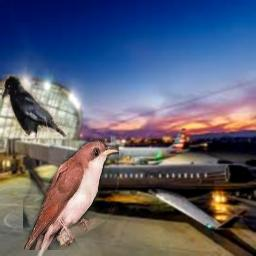Crow: (2, 74, 67, 139)
Cuckoo: (23, 140, 119, 250)
